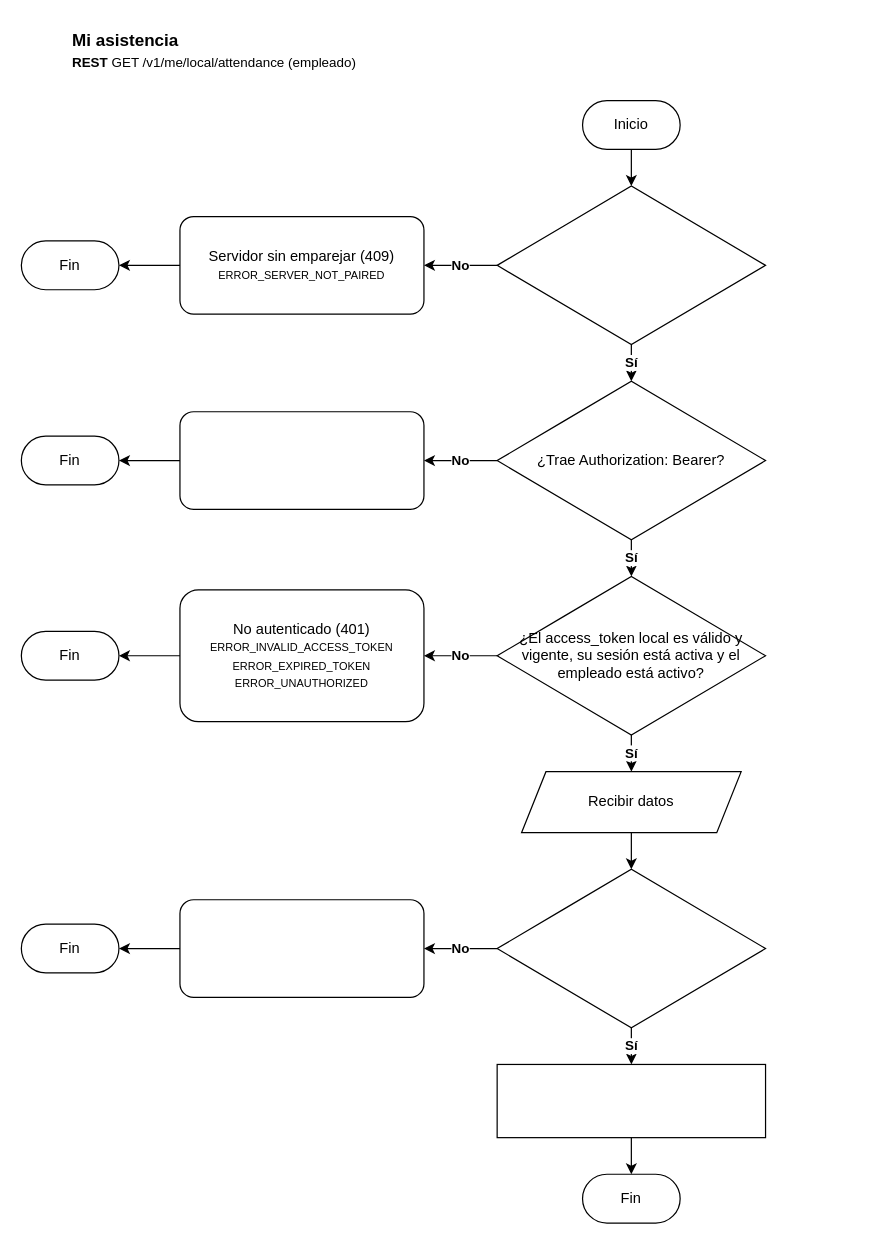
Image size: 872x1244. Some labels were removed from this diagram. The shapes that lost their labels are listed below. From the top down, each one's centre as x and y in pixels, then its label:
At [631,265]: "¿El servidor ya se emparejó alguna vez (pairing_status distinto de unpaired)?".
At [301,460]: "Falta el token (401) ERROR_MISSING_TOKEN".
At [301,948]: "Datos inválidos (400) ERROR_BAD_REQUEST".
At [631,948]: "¿Los datos son válidos?".
At [631,1100]: "Responder 200 con el mensaje ATTENDANCE_RETRIEVED".
